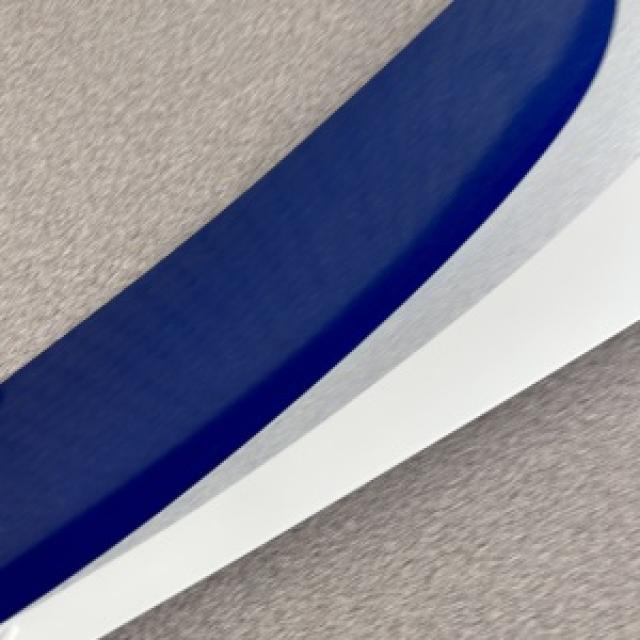healthy: (113, 4, 638, 555)
